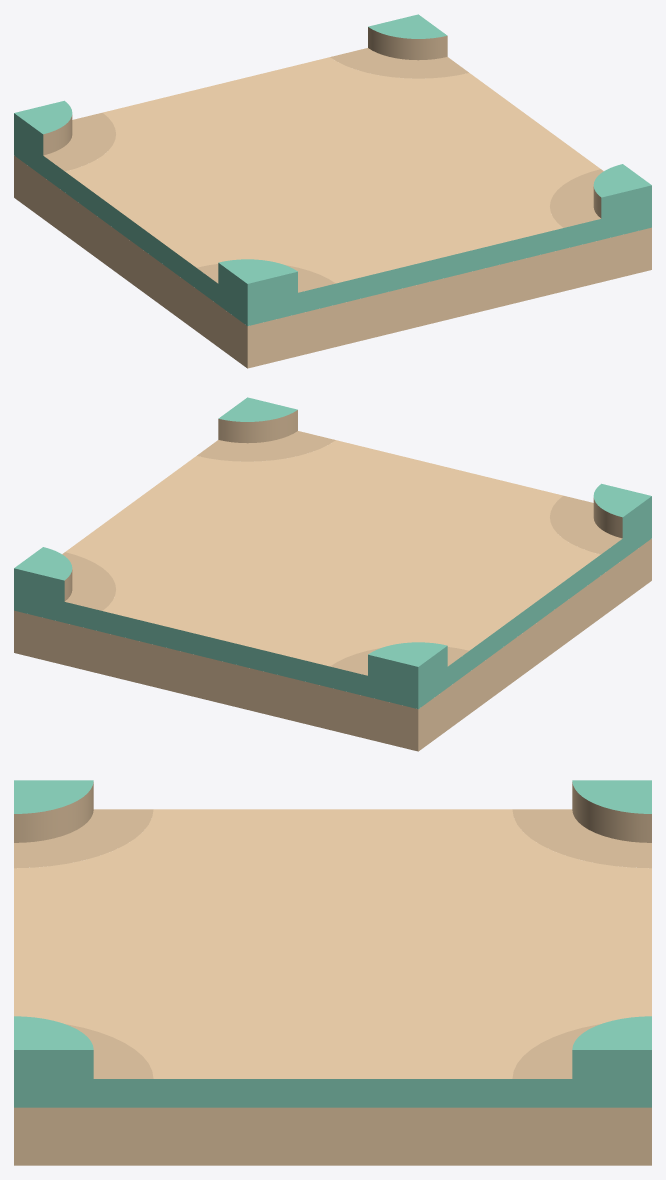
Rendered from tile_crossing.glb.
The picture shows the model from 3 angles, top to bottom: view 1: azimuth 30°, elevation 25°; view 2: azimuth 150°, elevation 25°; view 3: azimuth 270°, elevation 25°; orthographic projection. The views are drawn at different scales.
Parts seen in each view (by area): view 1: tile_crossing; view 2: tile_crossing; view 3: tile_crossing.
Part boxes in pixels (left/top/right/bottom): tile_crossing: left=14, top=14, right=651, bottom=368; tile_crossing: left=14, top=397, right=651, bottom=751; tile_crossing: left=14, top=780, right=651, bottom=1165.
Bounding box in the file's own units: 1 × 0.2 × 1.
